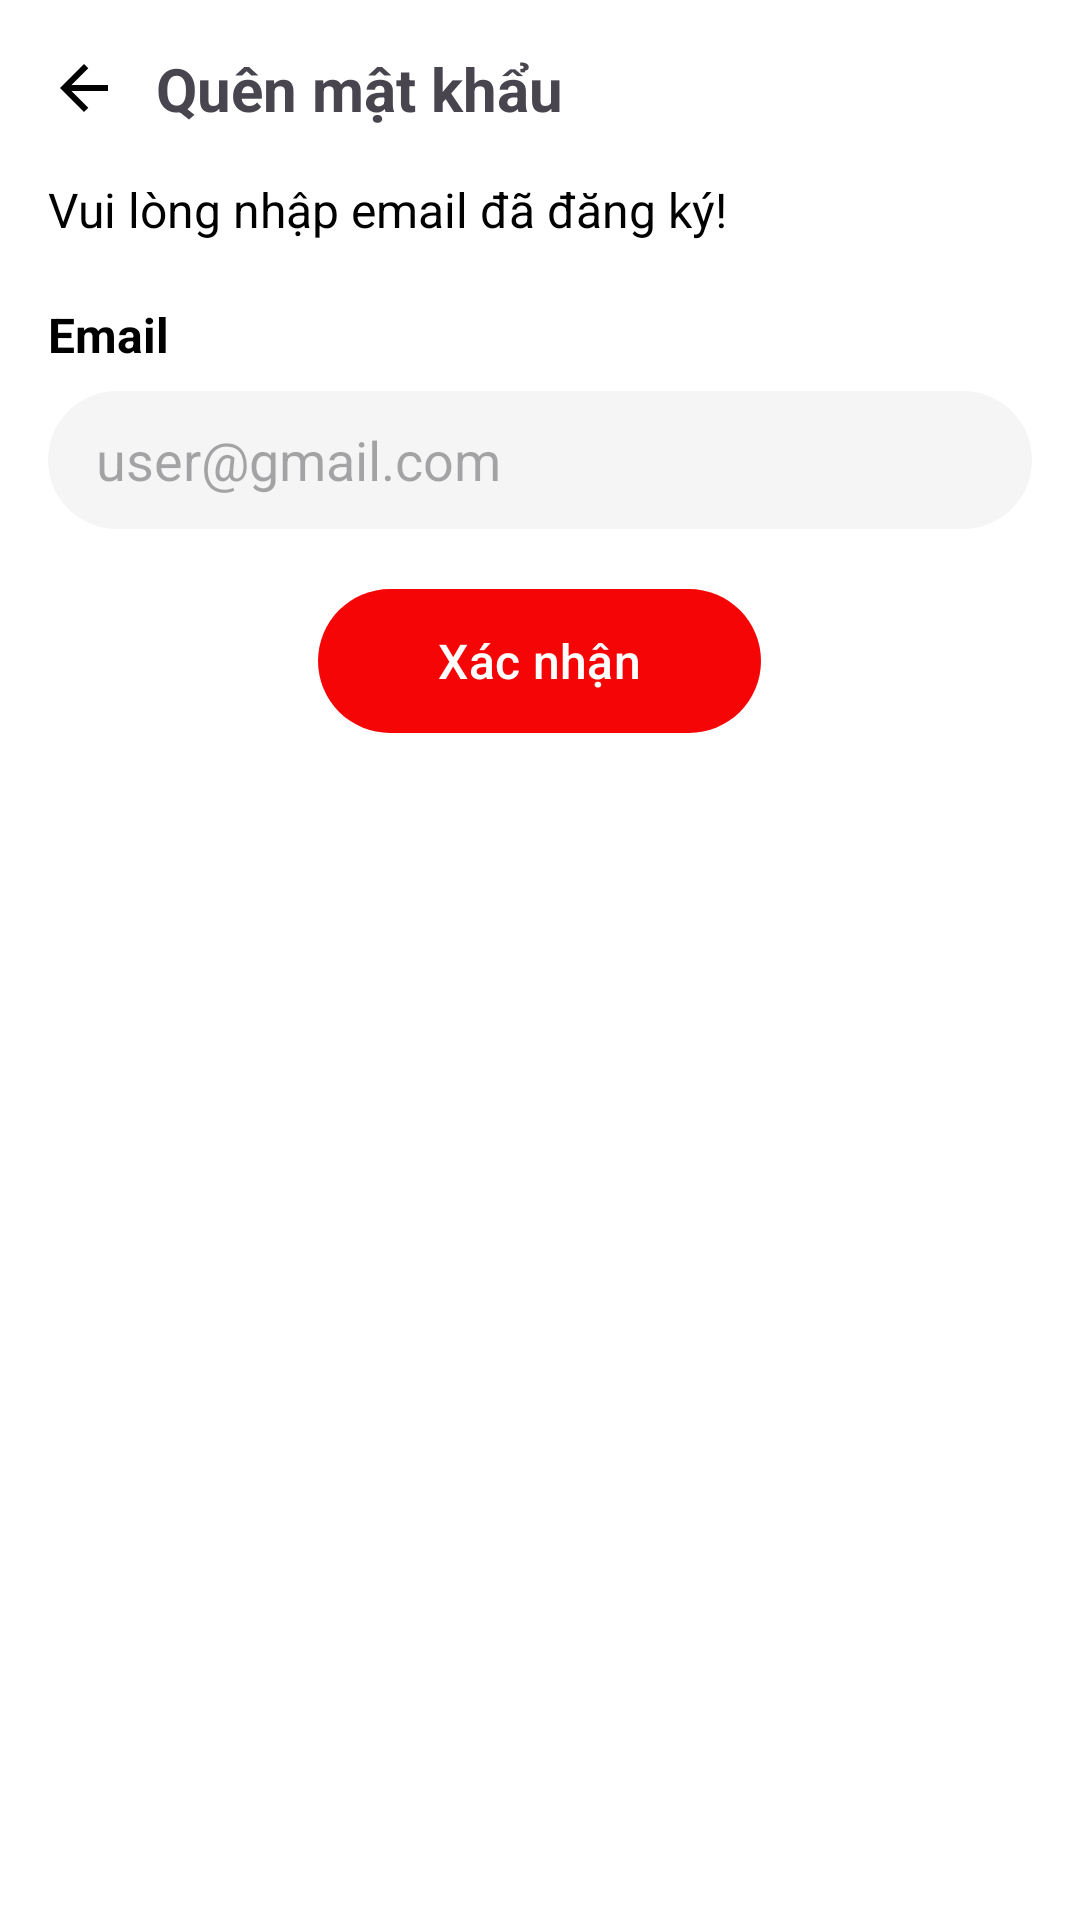

Screen size 1080 x 1920. Icon name, then its box in pixels as (x1,y1,x2,y2):
arrow back: (60,64,108,112)
